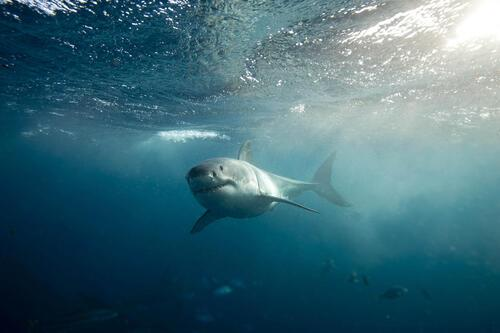shark: (184, 140, 353, 235)
